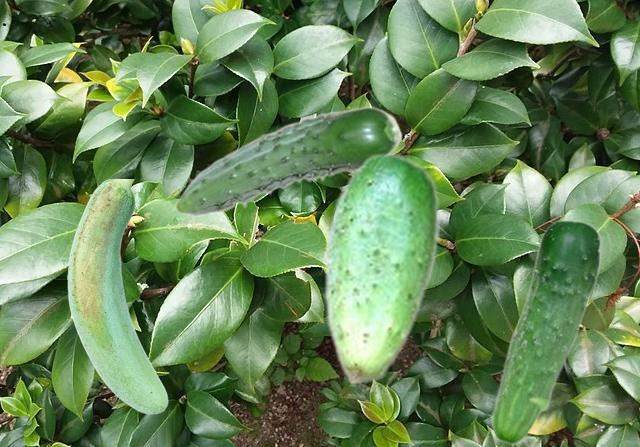cucumber: (323, 151, 438, 385), (490, 219, 601, 444), (174, 106, 402, 215), (67, 179, 167, 413)
